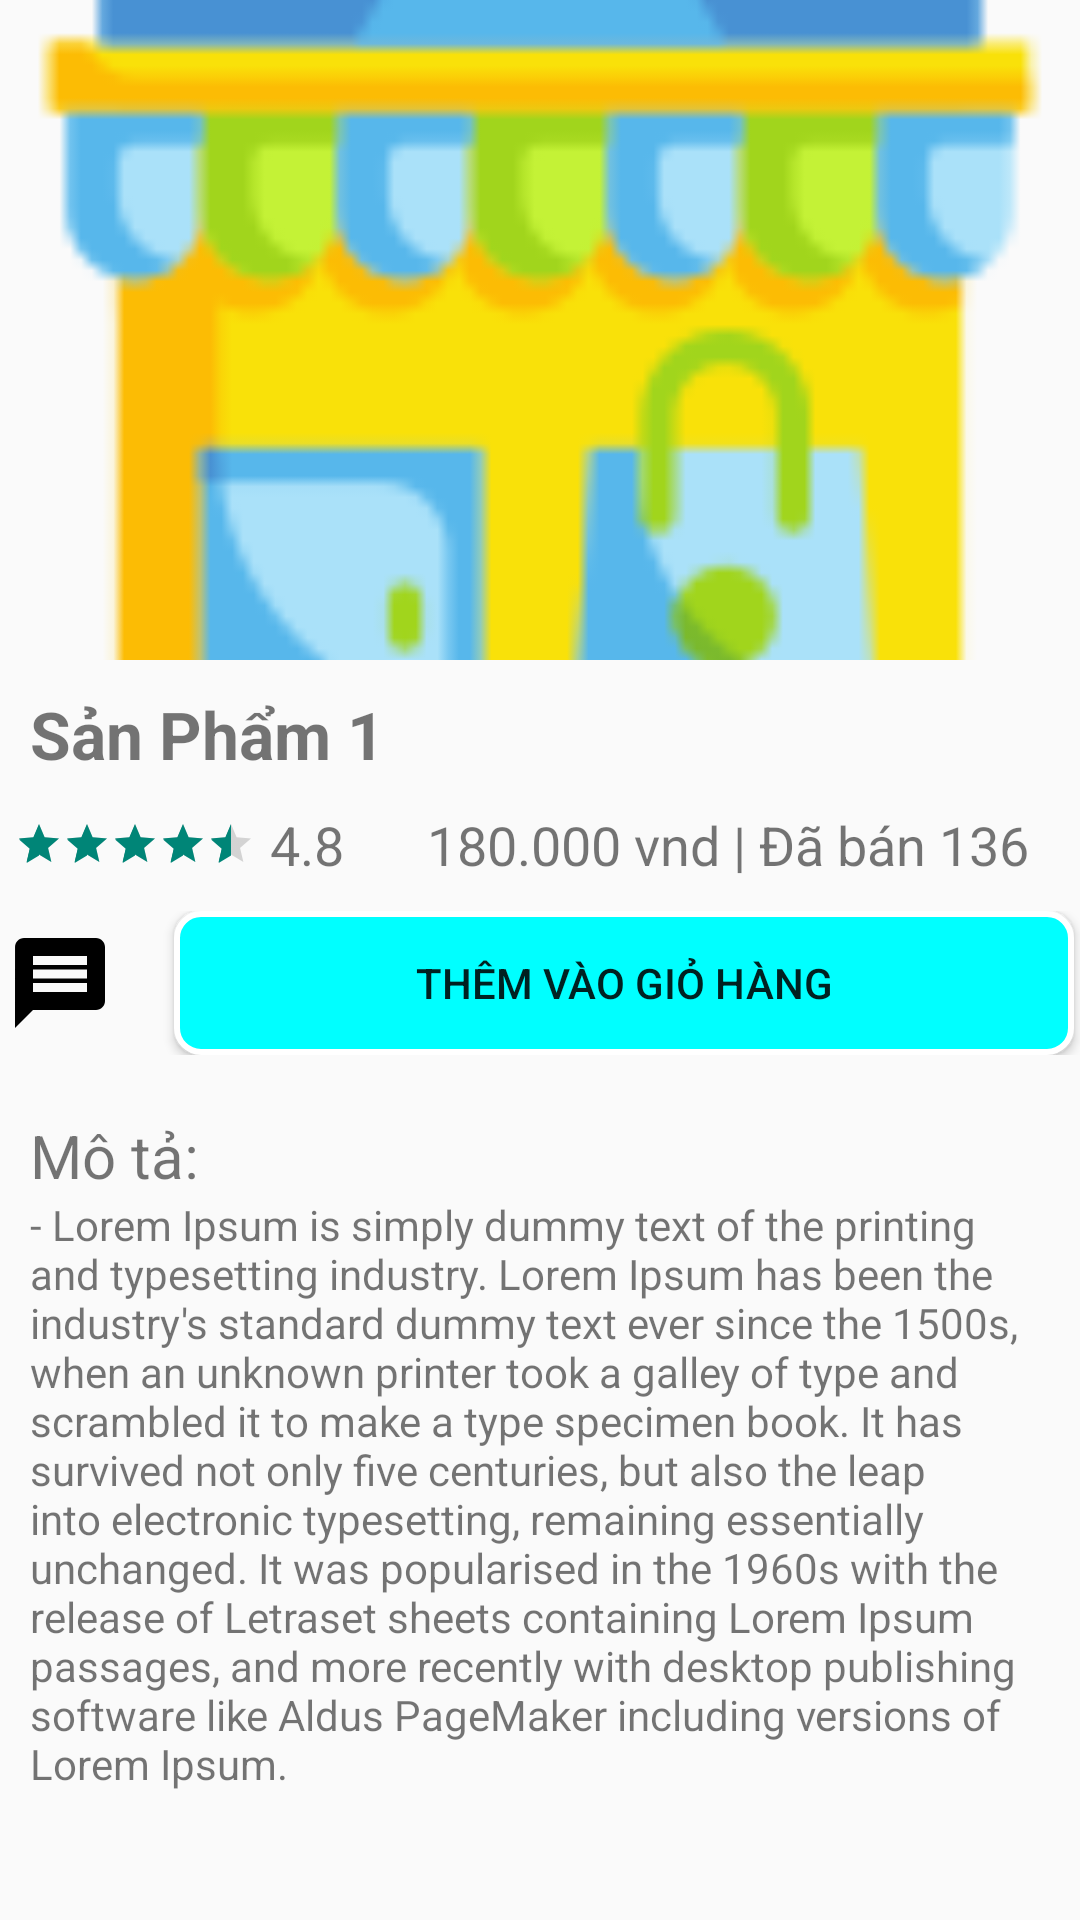

Icon bounding boxes for this 1080w x 1920h phone screenshot, format (x1, y1, x2, y2):
message: (15, 938, 105, 1028)
